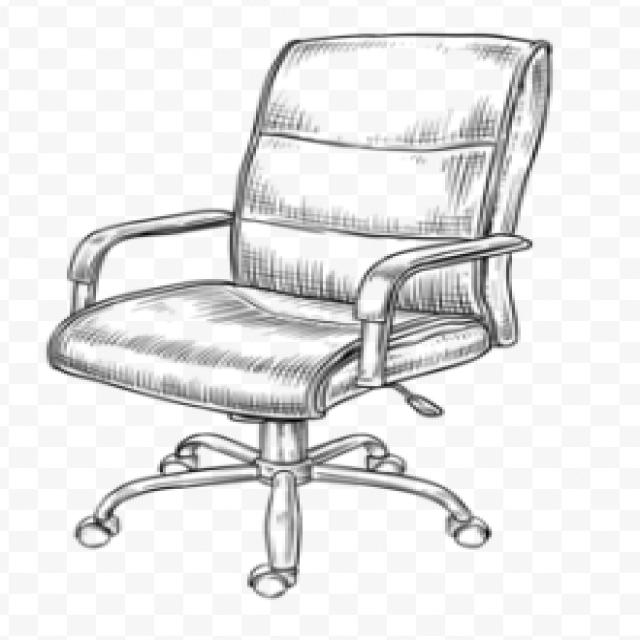5_Star_Base: (67, 427, 499, 605)
Armrest: (349, 232, 534, 388), (66, 206, 238, 318)
Backrest: (231, 33, 552, 349)
Caster_Wheel: (432, 506, 505, 556), (238, 556, 311, 606), (61, 510, 135, 555), (356, 446, 414, 481), (150, 448, 204, 481)
Control_Mechanism: (379, 380, 449, 420)
Seat: (43, 278, 494, 421)
